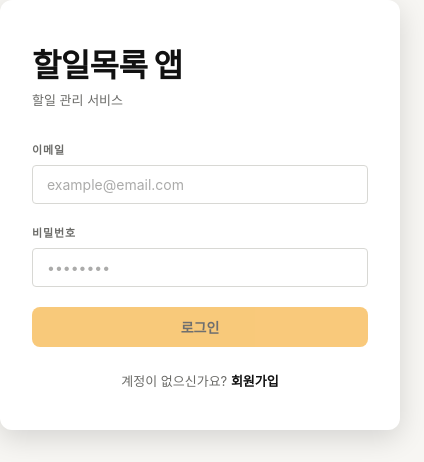
it: LoginPage › 이메일/비밀번호 입력 후 버튼 활성화
Type "a@b.com" into the field labelled "이메일" at (200, 184), box [32,165,368,204]
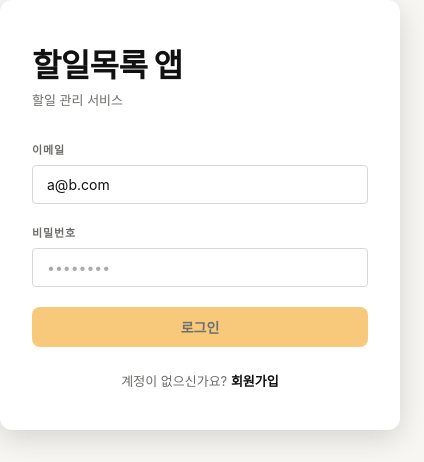
Type "pass1234" into the password field labelled "비밀번호" at (200, 268), box [32,248,368,287]
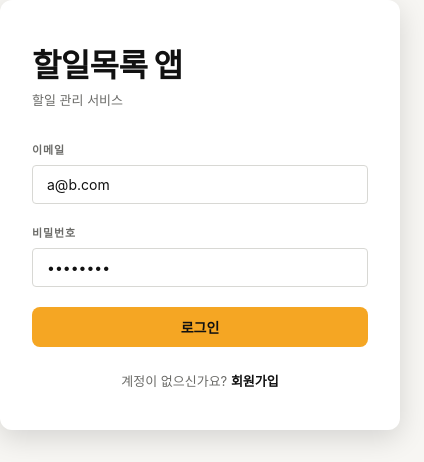
Now the button "로그인" is enabled, box [32,307,368,347]
